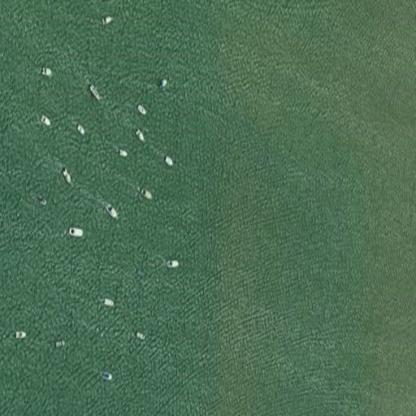ship: (99, 195, 122, 223), (82, 79, 103, 103), (91, 291, 118, 308), (55, 165, 77, 185), (130, 124, 149, 145), (137, 182, 155, 204), (65, 221, 86, 239), (36, 111, 54, 129), (161, 255, 184, 269), (96, 12, 114, 29), (159, 151, 177, 168), (132, 101, 150, 118), (96, 366, 113, 382), (36, 63, 54, 78), (12, 327, 30, 342), (131, 325, 147, 341), (72, 121, 89, 136), (32, 192, 48, 207), (115, 145, 130, 161), (154, 74, 170, 89), (50, 336, 66, 348)
